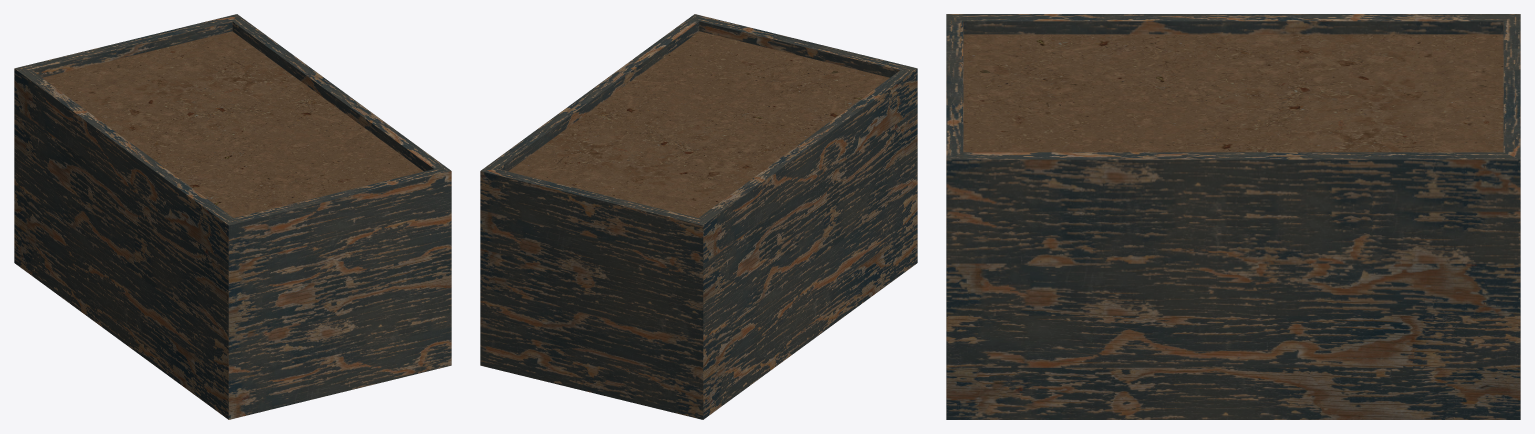
File: Kvetinac_Palety.fbx
3 renders of one model, left to right at view 1: azimuth 30°, elevation 25°; view 2: azimuth 150°, elevation 25°; view 3: azimuth 270°, elevation 25°, orthographic. The views are drawn at different scales.
Parts seen in each view (by area): view 1: Kvetinac_Palety; view 2: Kvetinac_Palety; view 3: Kvetinac_Palety.
Part boxes in pixels (x1,y1,x2,y2): Kvetinac_Palety: (14, 14, 451, 419); Kvetinac_Palety: (480, 14, 917, 419); Kvetinac_Palety: (946, 14, 1520, 419).
Bounding box in the file's own units: 120 × 100 × 200.
